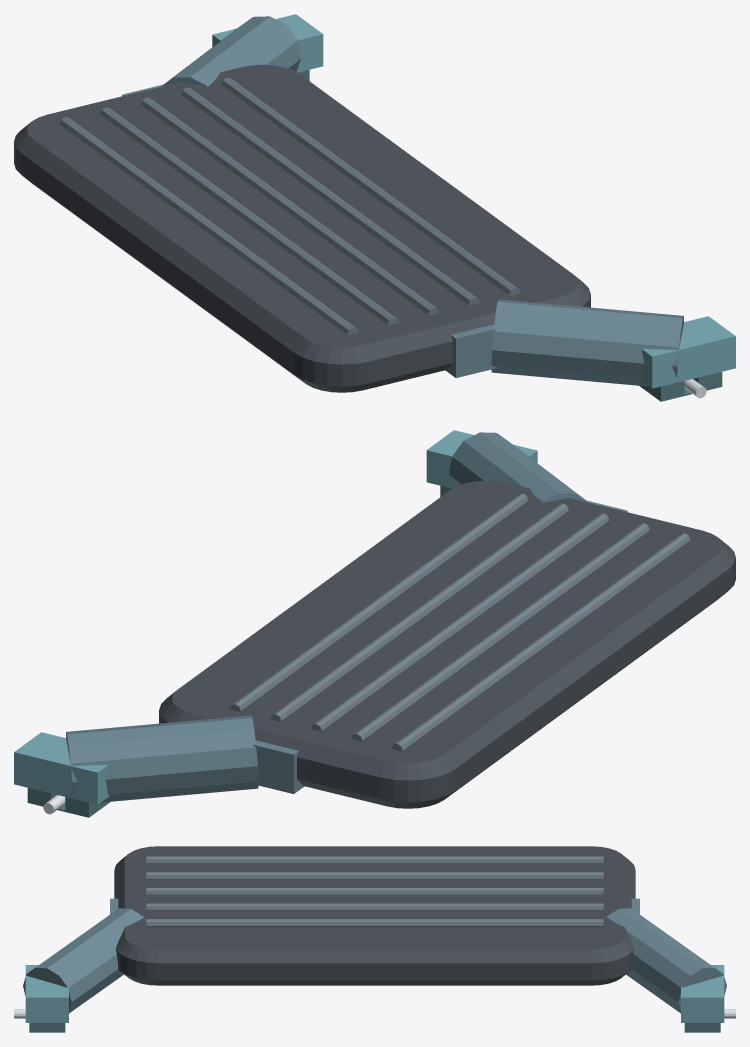
3 renders of one model, top to bottom at view 1: azimuth 30°, elevation 25°; view 2: azimuth 150°, elevation 25°; view 3: azimuth 270°, elevation 25°, orthographic. The views are drawn at different scales.
Visible parts, largest first — view 1: S08_Cabin_Footrest, S08_Cabin_Footrest_LowDocks; view 2: S08_Cabin_Footrest, S08_Cabin_Footrest_LowDocks; view 3: S08_Cabin_Footrest, S08_Cabin_Footrest_LowDocks.
Boxes of the visible parts, <box> form: S08_Cabin_Footrest: <box>14,64,590,392</box>; S08_Cabin_Footrest_LowDocks: <box>122,14,735,401</box>; S08_Cabin_Footrest: <box>159,480,735,808</box>; S08_Cabin_Footrest_LowDocks: <box>14,430,627,817</box>; S08_Cabin_Footrest: <box>114,846,635,985</box>; S08_Cabin_Footrest_LowDocks: <box>14,898,735,1032</box>.
Size of the model in its own units: 0.2565 by 0.053 by 0.564.
